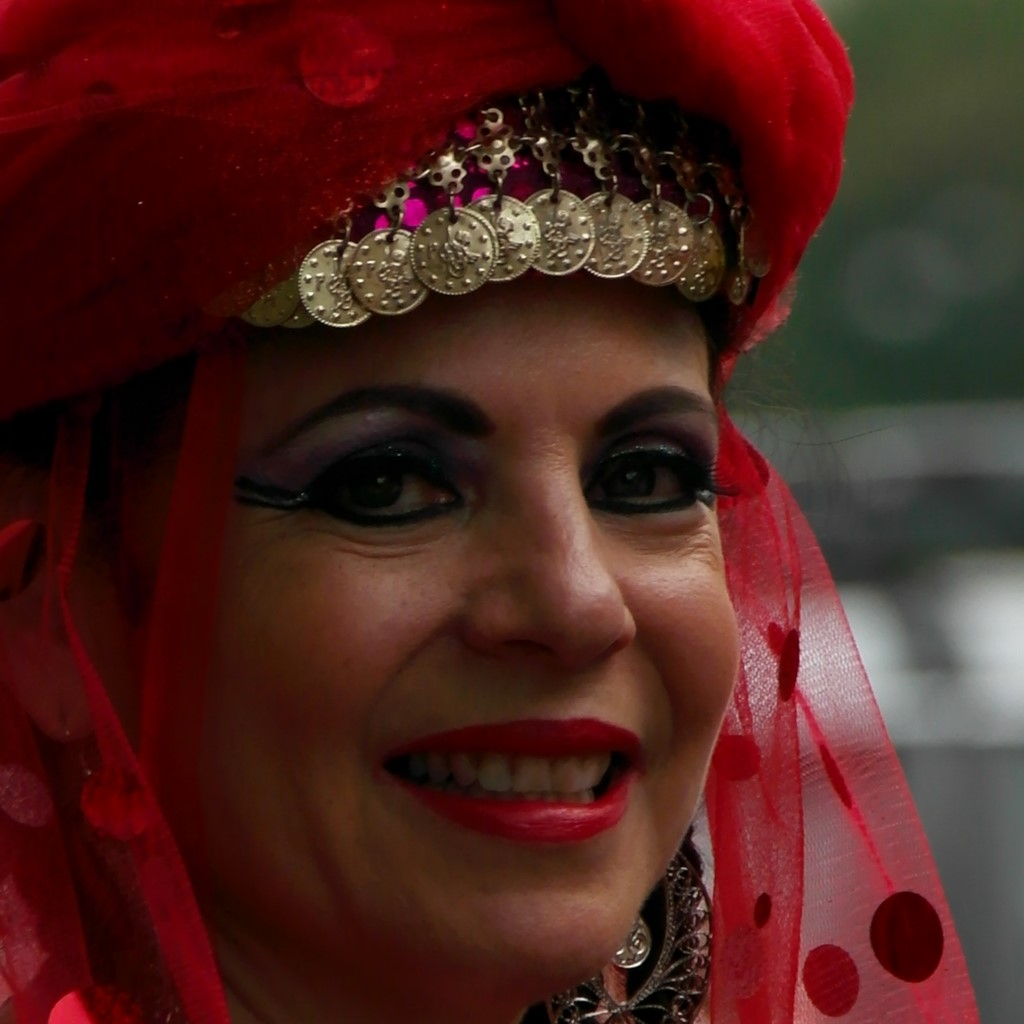sin_mascara: (175, 198, 749, 993)
